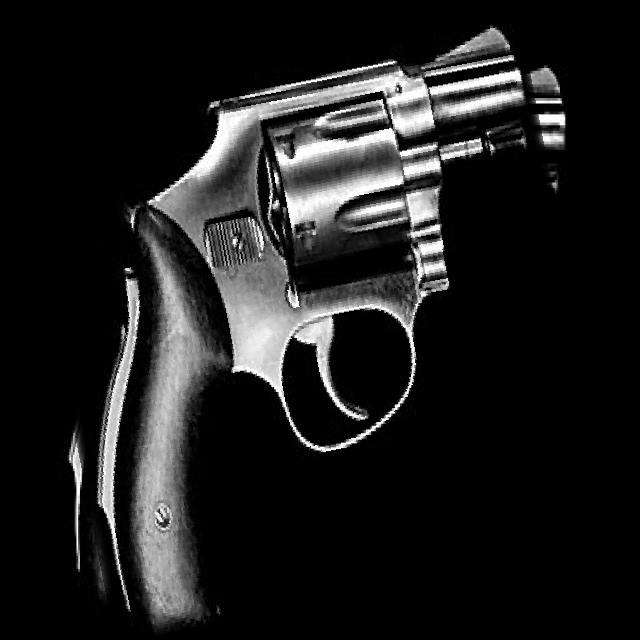gun: (36, 39, 598, 622)
